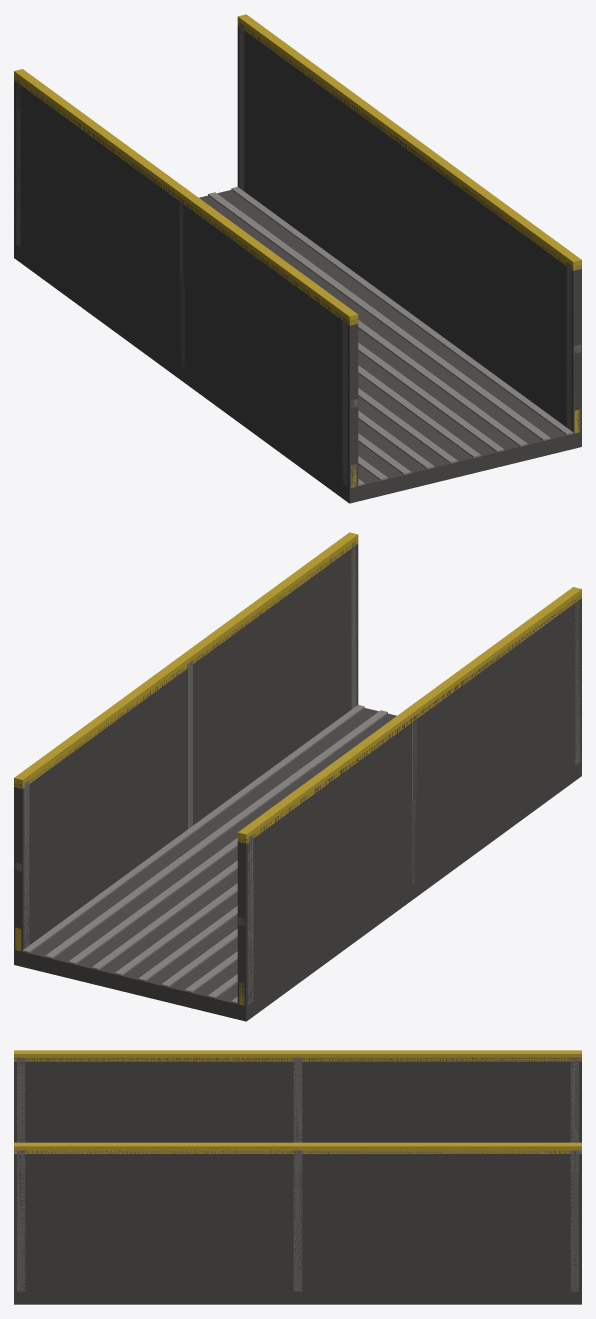
File: B_k_catwalk.glb
3 views of the same model, one above another, from view 1: azimuth 30°, elevation 25°; view 2: azimuth 150°, elevation 25°; view 3: azimuth 270°, elevation 25° (orthographic). The views are drawn at different scales.
Parts seen in each view (by area): view 1: MCDCX_h.001, MCDCX_h.002, Cube, Cube.014, Cube.020, Cube.009, Cube.010, Cube.008, Cube.007, Cube.006, Cube.013, Cube.017 (+5 smaller); view 2: MCDCX_h.001, MCDCX_h.002, Cube, Cube.020, Cube.014, Cube.009, Cube.010, Cube.008, Cube.007, Cube.006, Cube.011, Cube.017 (+5 smaller); view 3: MCDCX_h.002, MCDCX_h.001, Cube, Cube.020, Cube.014, Cube.018, Cube.019, Cube.017, Cube.012, Cube.011, Cube.013.
Part boxes in pixels (bbox=[...]): MCDCX_h.001: bbox=[14, 78, 358, 488]; MCDCX_h.002: bbox=[237, 26, 581, 433]; Cube: bbox=[14, 190, 581, 503]; Cube.014: bbox=[14, 69, 358, 325]; Cube.020: bbox=[237, 14, 581, 270]; Cube.009: bbox=[208, 192, 550, 440]; Cube.010: bbox=[231, 186, 573, 435]; Cube.008: bbox=[358, 320, 527, 446]; Cube.007: bbox=[358, 342, 504, 452]; Cube.006: bbox=[358, 365, 480, 457]; Cube.013: bbox=[342, 316, 347, 486]; Cube.017: bbox=[239, 22, 244, 190]; MCDCX_h.001: bbox=[237, 594, 581, 1006]; MCDCX_h.002: bbox=[14, 540, 358, 951]; Cube: bbox=[14, 708, 581, 1021]; Cube.020: bbox=[14, 532, 358, 788]; Cube.014: bbox=[237, 587, 581, 843]; Cube.009: bbox=[45, 710, 387, 958]; Cube.010: bbox=[22, 704, 364, 953]; Cube.008: bbox=[68, 838, 237, 964]; Cube.007: bbox=[91, 860, 237, 970]; Cube.006: bbox=[115, 883, 237, 975]; Cube.011: bbox=[248, 834, 253, 1004]; Cube.017: bbox=[24, 780, 29, 948]; MCDCX_h.002: bbox=[14, 1150, 581, 1291]; MCDCX_h.001: bbox=[14, 1057, 581, 1142]; Cube: bbox=[14, 1291, 581, 1304]; Cube.020: bbox=[14, 1142, 581, 1153]; Cube.014: bbox=[14, 1050, 581, 1061]; Cube.018: bbox=[293, 1150, 302, 1291]; Cube.019: bbox=[17, 1150, 25, 1291]; Cube.017: bbox=[570, 1150, 578, 1291]; Cube.012: bbox=[293, 1057, 302, 1142]; Cube.011: bbox=[570, 1057, 578, 1142]; Cube.013: bbox=[17, 1057, 25, 1142].
Bounding box in the file's own units: 1.6 × 1.23 × 4.
